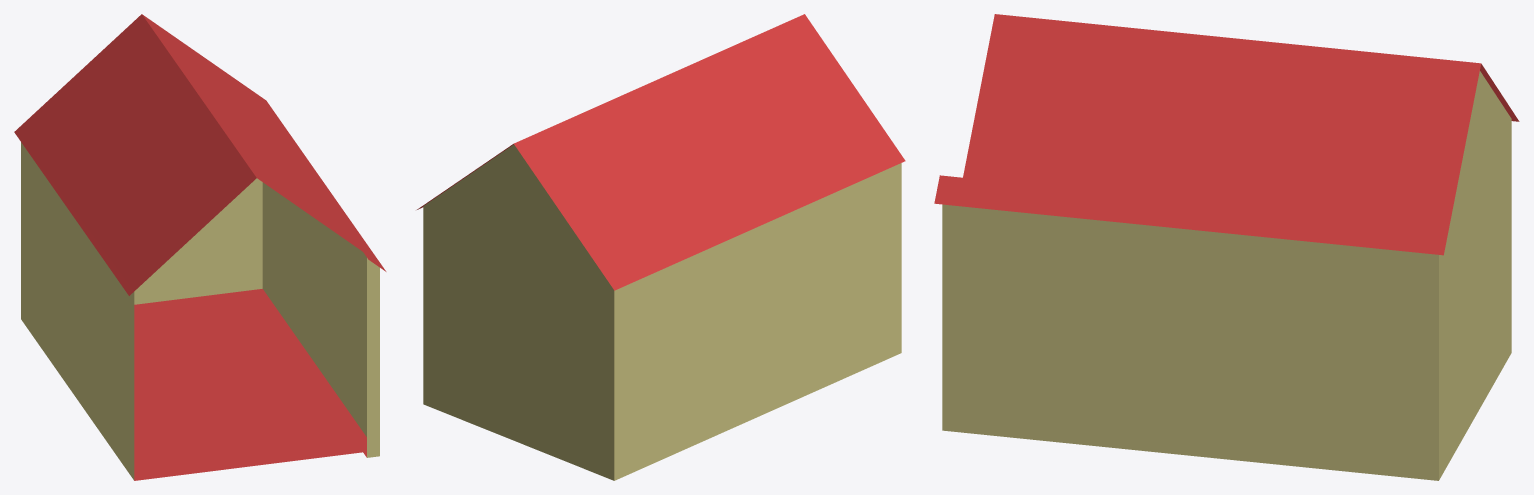
3 views of the same model, side by side, from view 1: azimuth 30°, elevation 25°; view 2: azimuth 150°, elevation 25°; view 3: azimuth 270°, elevation 25° (orthographic). The views are drawn at different scales.
Bounding box in the file's own units: 16.22 × 21.93 × 14.68.
